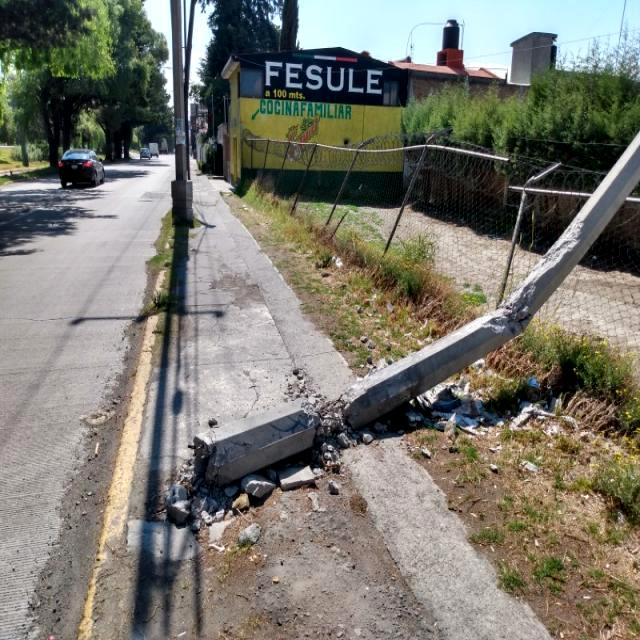Broken Pole: (192, 130, 640, 504)
